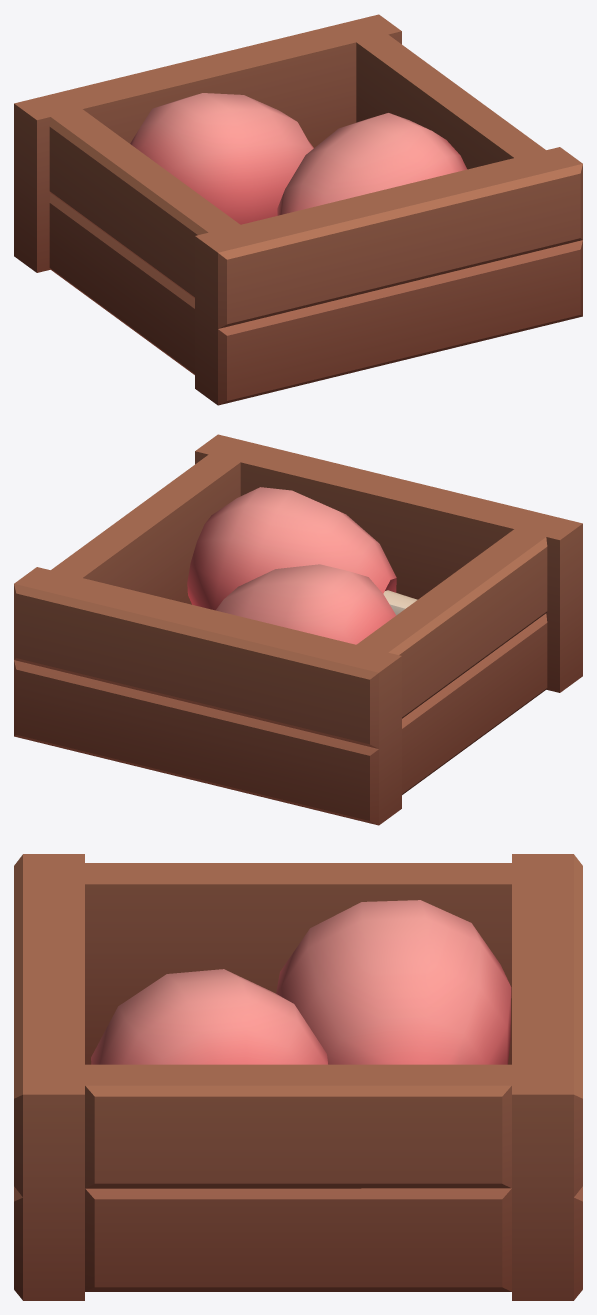
File: ham_counter.glb
The picture shows the model from 3 angles, top to bottom: view 1: azimuth 30°, elevation 25°; view 2: azimuth 150°, elevation 25°; view 3: azimuth 270°, elevation 25°; orthographic projection. The views are drawn at different scales.
Visible parts, largest first — view 1: crate_ham; view 2: crate_ham; view 3: crate_ham.
Boxes of the visible parts, x1,y1,x2,y2 form: crate_ham: (14,14,582,405); crate_ham: (14,434,582,825); crate_ham: (14,854,582,1300).
Bounding box in the file's own units: 2 × 0.8937 × 2.
1 material, 1 textured.
